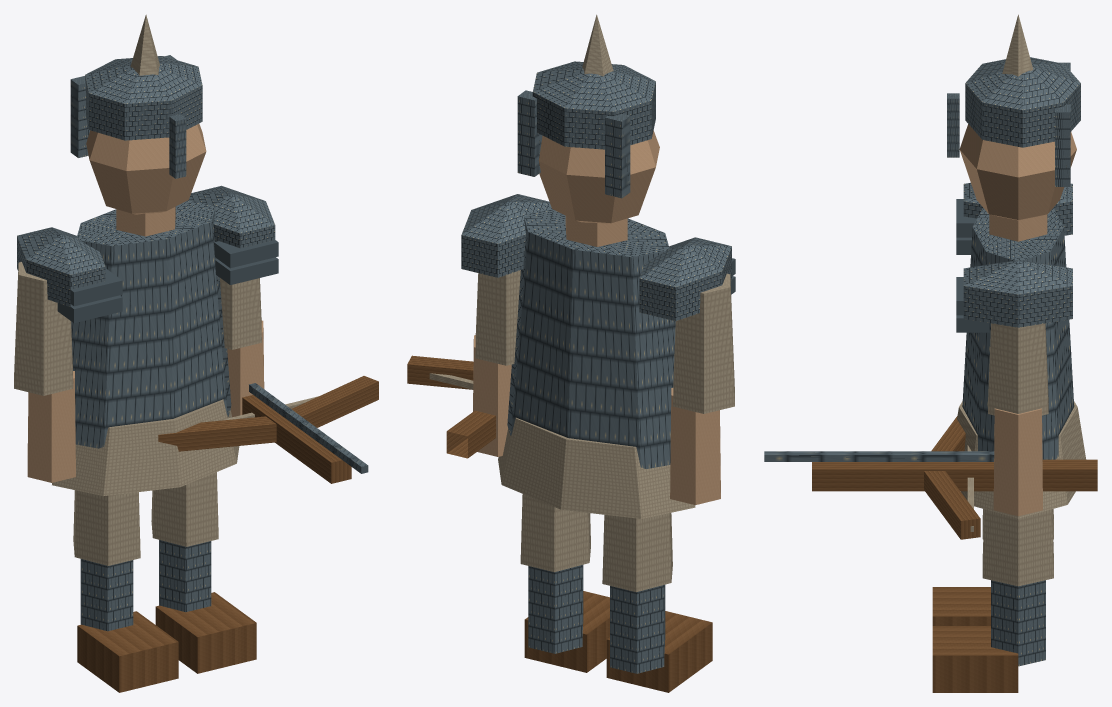
File: unit-CROSSBOW-lod1.glb
The picture shows the model from 3 angles, left to right: view 1: azimuth 30°, elevation 25°; view 2: azimuth 150°, elevation 25°; view 3: azimuth 270°, elevation 25°; orthographic projection. The views are drawn at different scales.
Size of the model in its own units: 0.2499 by 0.448 by 0.21.
Materials: 1 (1 with a texture image).
